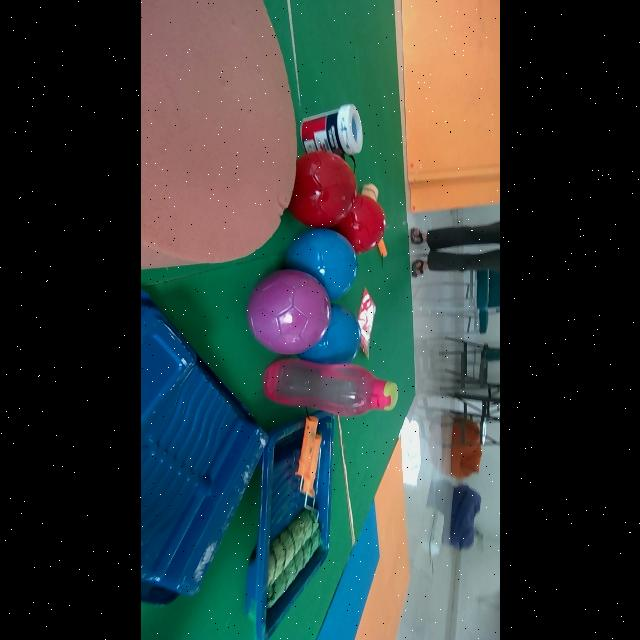B: (286, 230, 357, 300), (298, 304, 361, 363)
P: (247, 270, 331, 355)
R: (288, 151, 356, 228), (333, 194, 386, 254)
